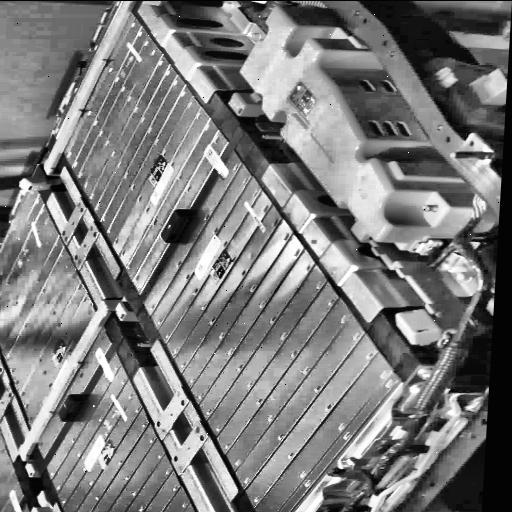battery_module: (144, 149, 404, 512), (54, 2, 228, 292), (0, 181, 111, 459), (46, 351, 197, 512)
busbar: (15, 0, 136, 190), (17, 293, 140, 478), (337, 210, 478, 349)
low_volt_cable: (333, 197, 495, 512)
